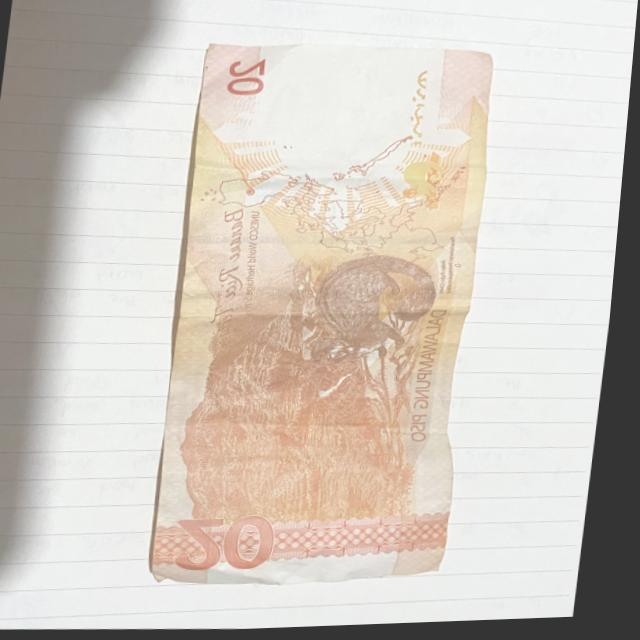security_thread: (189, 218, 486, 259)
value: (167, 502, 300, 581)
